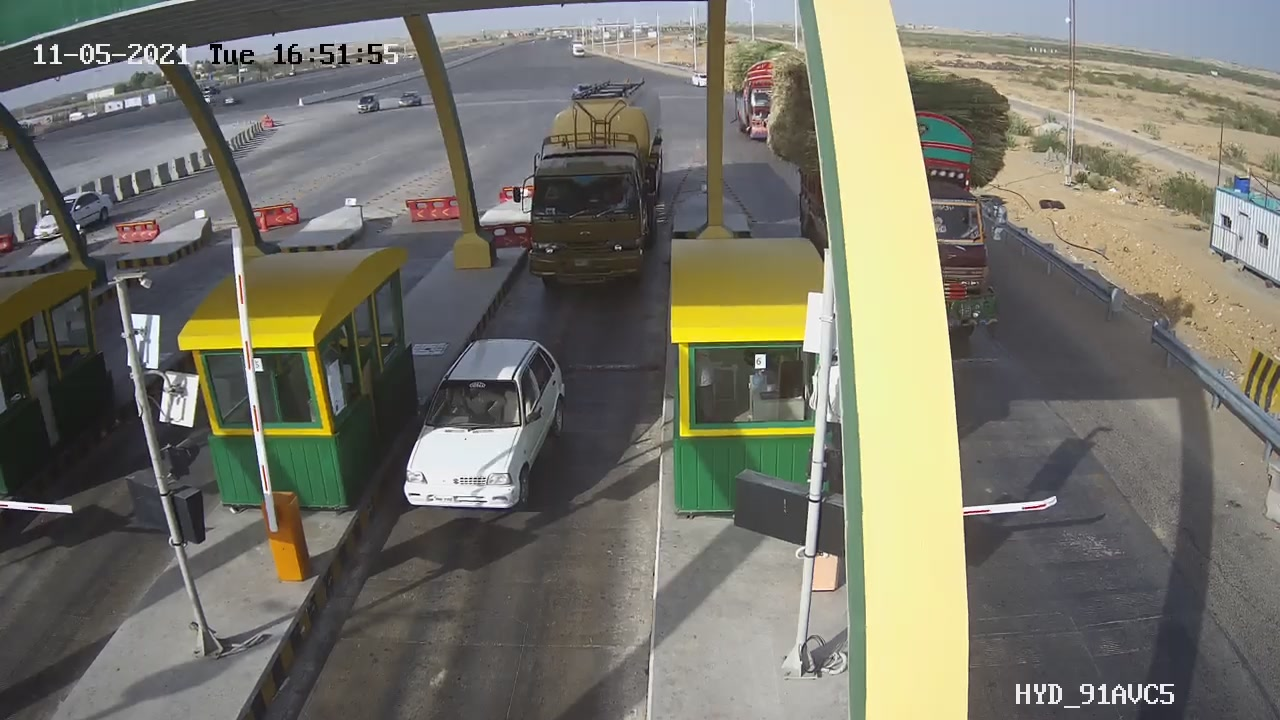F1: (380, 324, 587, 531)
F6: (514, 54, 674, 301)
